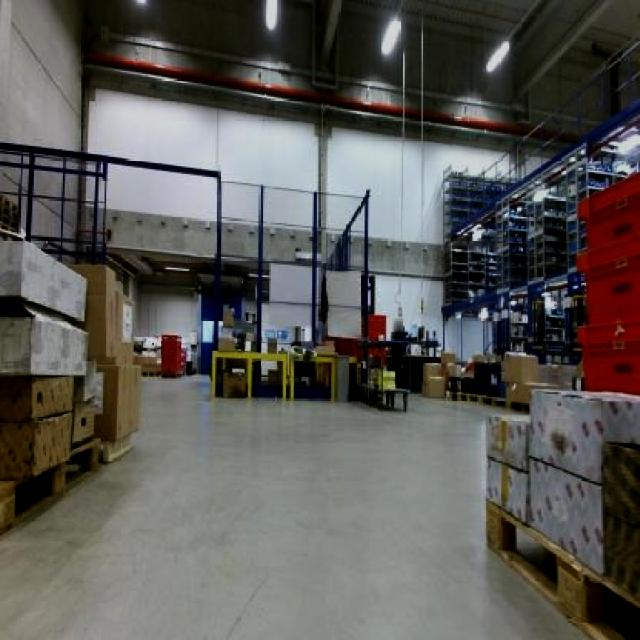floor: (0, 375, 583, 637)
pallets: (485, 388, 637, 637)
